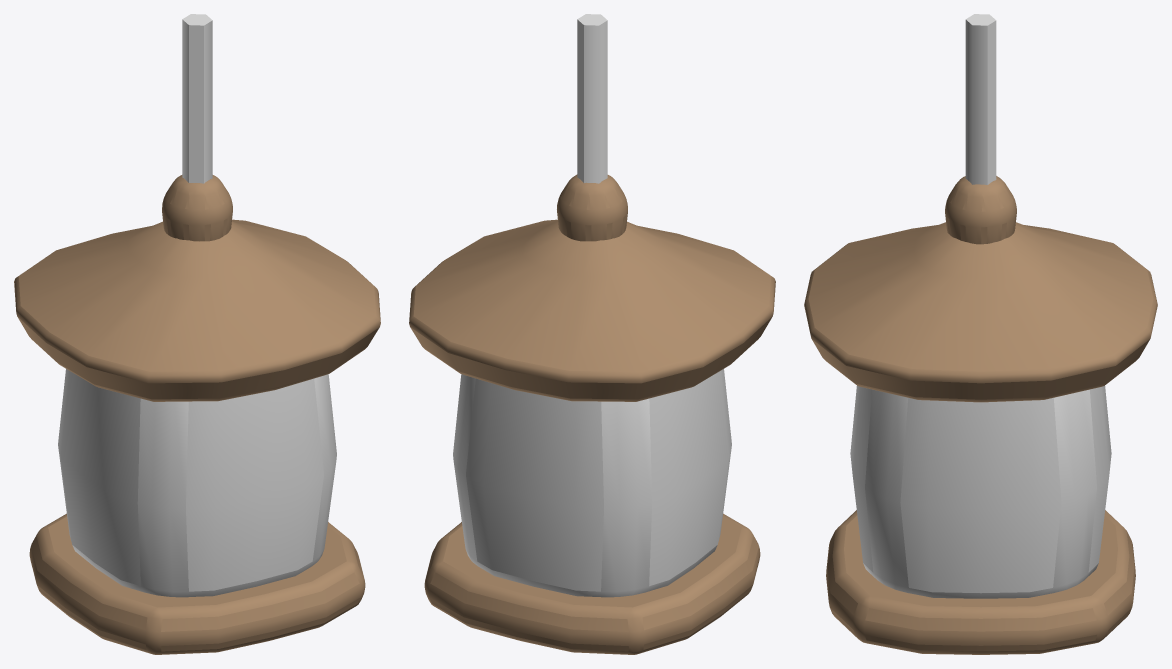
File: prop_lantern_hang_3.glb
3 renders of one model, left to right at view 1: azimuth 30°, elevation 25°; view 2: azimuth 150°, elevation 25°; view 3: azimuth 270°, elevation 25°, orthographic.
Visible parts, largest first — view 1: prop_lantern_hang_3_timber, prop_lantern_hang_3_pv_capiz_lantern, prop_lantern_hang_3_pv_rope; view 2: prop_lantern_hang_3_timber, prop_lantern_hang_3_pv_capiz_lantern, prop_lantern_hang_3_pv_rope; view 3: prop_lantern_hang_3_timber, prop_lantern_hang_3_pv_capiz_lantern, prop_lantern_hang_3_pv_rope.
Boxes of the visible parts, x1=… form: prop_lantern_hang_3_timber: x1=14, y1=175, x2=380, y2=654; prop_lantern_hang_3_pv_capiz_lantern: x1=58, y1=369, x2=336, y2=597; prop_lantern_hang_3_pv_rope: x1=182, y1=14, x2=212, y2=183; prop_lantern_hang_3_timber: x1=409, y1=174, x2=775, y2=654; prop_lantern_hang_3_pv_capiz_lantern: x1=453, y1=369, x2=731, y2=597; prop_lantern_hang_3_pv_rope: x1=577, y1=14, x2=607, y2=183; prop_lantern_hang_3_timber: x1=804, y1=176, x2=1157, y2=654; prop_lantern_hang_3_pv_capiz_lantern: x1=850, y1=386, x2=1111, y2=598; prop_lantern_hang_3_pv_rope: x1=965, y1=14, x2=996, y2=184.
Bounding box in the file's own units: 0.4602 × 0.8247 × 0.4602.
